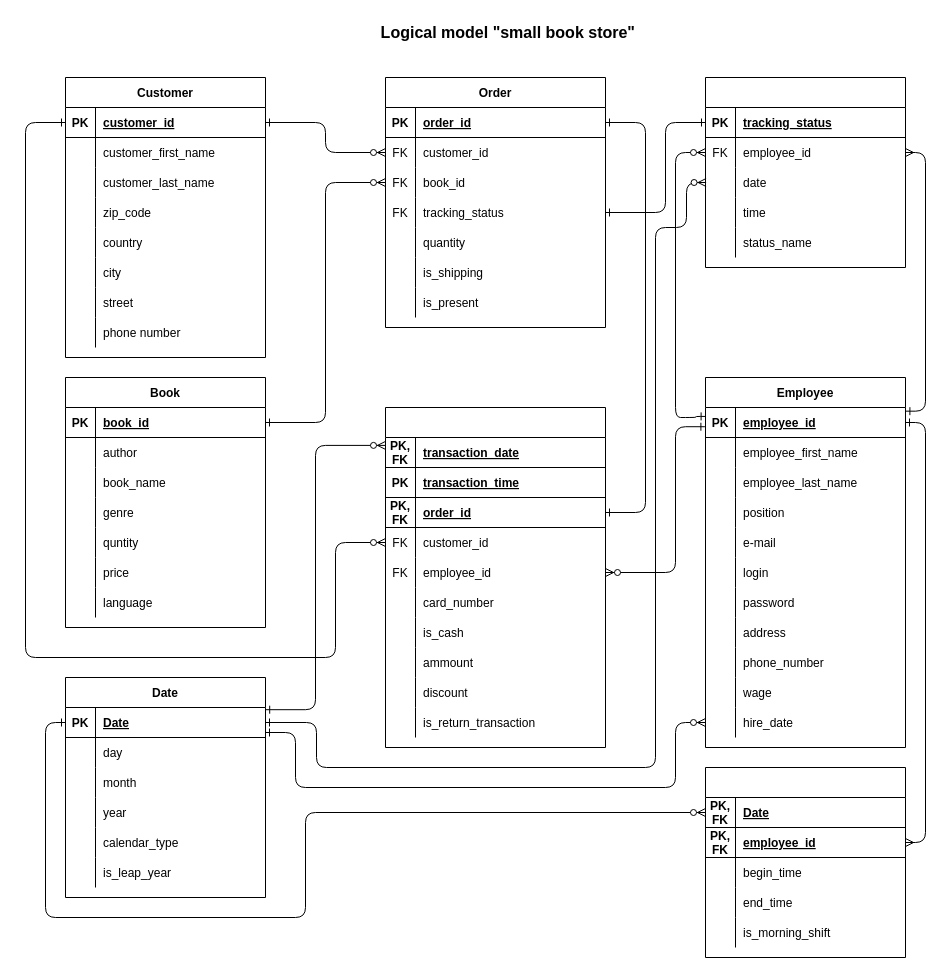
Some shapes in this 952 by 975 pixel diagram are drawn without their labels. The shapes that lost their labels are listed below. From the top down, each one's box as (x1, y1, x2, y2) in pixels, then its label:
(704, 76, 906, 268): Tranking
(384, 406, 606, 748): Sales
(704, 766, 906, 958): Shifts
